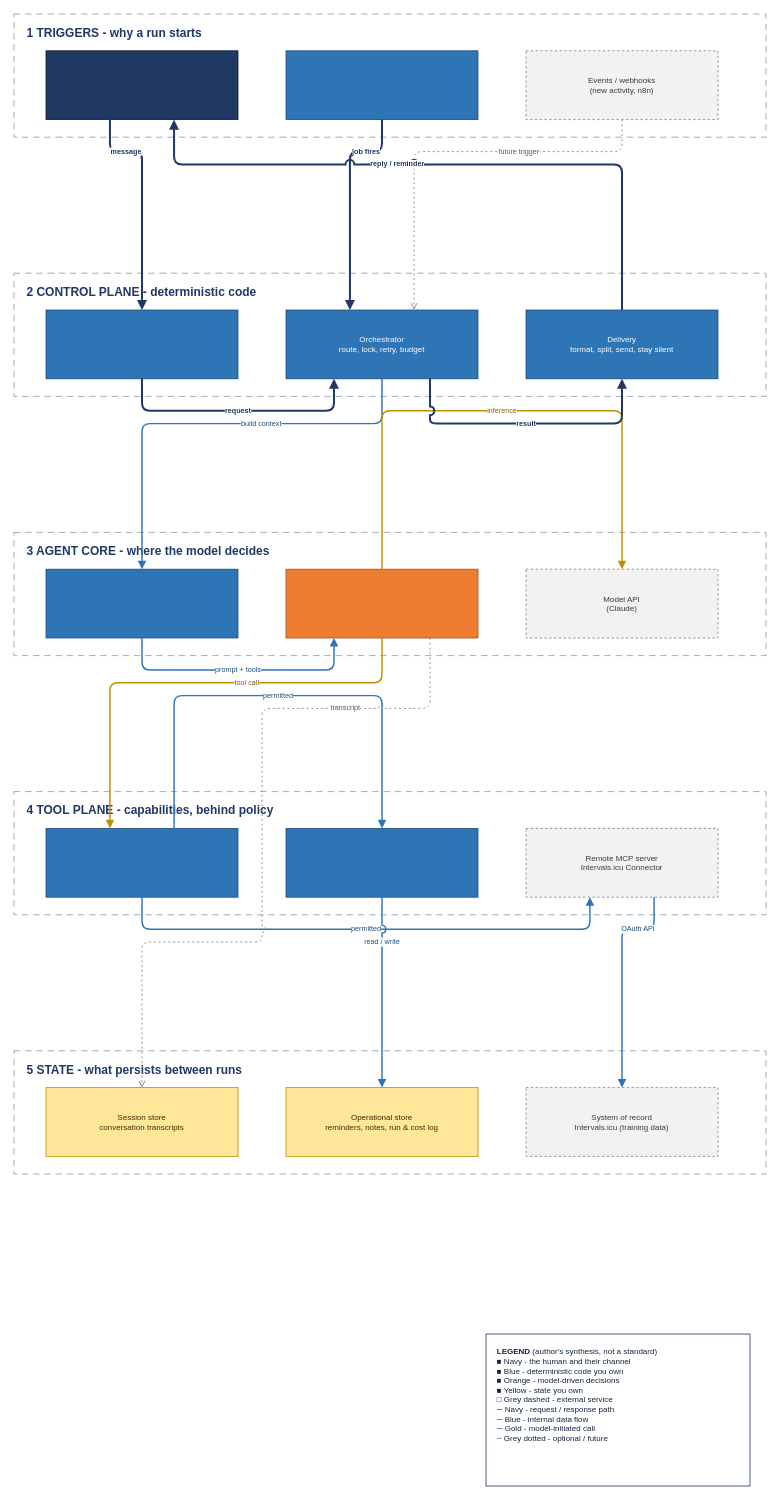
Image size: 780x1500. Some labels were removed from this diagram. The shapes that lost their labels are listed below. From the top down, each one's centre as x and y in pixels, then its label:
the point at 141,85: Conversation channel (Telegram message)
the point at 381,85: Schedule (cron: brief, scan)
the point at 141,344: Ingress gateway authn, allow-list, normalise
the point at 141,603: Context assembler prompt, profile, memory, time
the point at 381,603: Agent runtime model ↔ tool loop
the point at 141,862: Policy & approval gate allow-list, human approval
the point at 381,862: In-process tools reminders, notes
